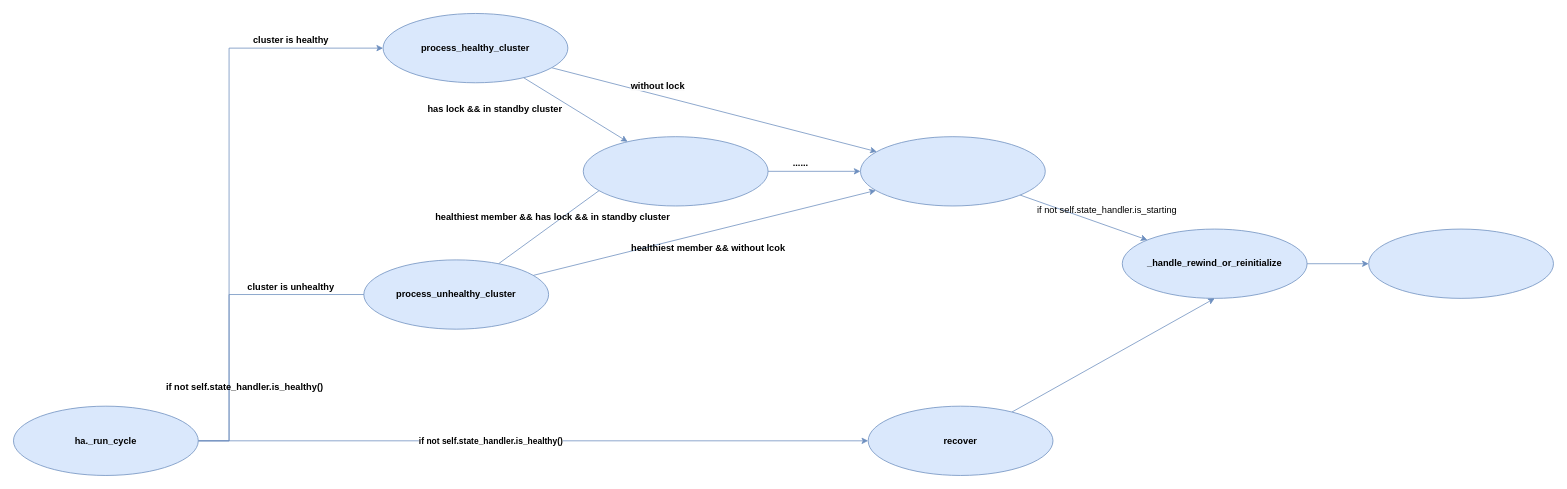
Some shapes in this 1567 by 489 pixel diagram are drawn without their labels. Here are the shapes that lost their labels. From the top down, the centre of each, then its label:
point 675,171: enforce_follow_remote_master
point 952,171: follow
point 1460,263: self._do_reinitialize,
